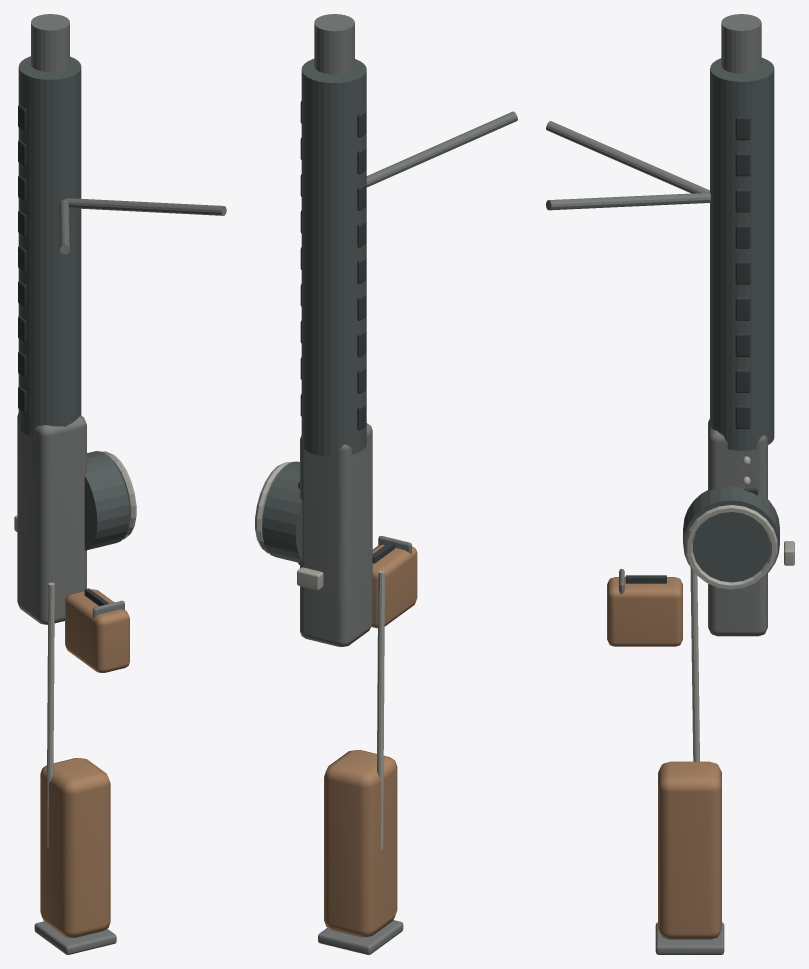
The model's file is wave24_mg34.glb.
3 renders of one model, left to right at view 1: azimuth 30°, elevation 25°; view 2: azimuth 150°, elevation 25°; view 3: azimuth 270°, elevation 25°, orthographic. The views are drawn at different scales.
Parts seen in each view (by area): view 1: MG34 forged heat-shield barrel jacket, mg34 large machined receiver, mg34 1940s shoulder walnut butt, mg34 finger-grip wood, MG34 steel drum feed cover, MG34 muzzle flash hider, MG34 wire bipod leg 1, mg34 wood-stock sling, mg34 rear stock steel buttplate, MG34 circular feed drum rim, MG34 wire bipod leg -1; view 2: MG34 forged heat-shield barrel jacket, mg34 large machined receiver, mg34 1940s shoulder walnut butt, MG34 steel drum feed cover, mg34 finger-grip wood, MG34 muzzle flash hider, MG34 wire bipod leg -1, mg34 wood-stock sling, mg34 rear stock steel buttplate, MG34 circular feed drum rim; view 3: MG34 forged heat-shield barrel jacket, mg34 1940s shoulder walnut butt, MG34 steel drum feed cover, mg34 large machined receiver, mg34 finger-grip wood, MG34 muzzle flash hider, MG34 circular feed drum rim, MG34 wire bipod leg -1, MG34 wire bipod leg 1, mg34 wood-stock sling, mg34 rear stock steel buttplate.
Part boxes in pixels (x1=…): MG34 forged heat-shield barrel jacket: x1=18, y1=56, x2=81, y2=436; mg34 large machined receiver: x1=17, y1=413, x2=86, y2=624; mg34 1940s shoulder walnut butt: x1=40, y1=758, x2=110, y2=937; mg34 finger-grip wood: x1=65, y1=589, x2=129, y2=672; MG34 steel drum feed cover: x1=84, y1=451, x2=129, y2=550; MG34 muzzle flash hider: x1=31, y1=14, x2=69, y2=72; MG34 wire bipod leg 1: x1=66, y1=198, x2=226, y2=215; mg34 wood-stock sling: x1=46, y1=582, x2=54, y2=848; mg34 rear stock steel buttplate: x1=34, y1=921, x2=116, y2=954; MG34 circular feed drum rim: x1=102, y1=451, x2=136, y2=539; MG34 wire bipod leg -1: x1=59, y1=199, x2=69, y2=254; MG34 forged heat-shield barrel jacket: x1=301, y1=59, x2=366, y2=457; mg34 large machined receiver: x1=300, y1=423, x2=372, y2=646; mg34 1940s shoulder walnut butt: x1=324, y1=750, x2=397, y2=937; MG34 steel drum feed cover: x1=262, y1=461, x2=302, y2=562; mg34 finger-grip wood: x1=371, y1=544, x2=417, y2=628; MG34 muzzle flash hider: x1=314, y1=14, x2=354, y2=74; MG34 wire bipod leg -1: x1=366, y1=111, x2=517, y2=187; mg34 wood-stock sling: x1=377, y1=570, x2=384, y2=849; mg34 rear stock steel buttplate: x1=318, y1=920, x2=403, y2=954; MG34 circular feed drum rim: x1=255, y1=462, x2=290, y2=553; MG34 forged heat-shield barrel jacket: x1=710, y1=58, x2=774, y2=450; mg34 1940s shoulder walnut butt: x1=658, y1=761, x2=721, y2=939; MG34 steel drum feed cover: x1=683, y1=487, x2=779, y2=582; mg34 large machined receiver: x1=708, y1=419, x2=767, y2=636; mg34 finger-grip wood: x1=607, y1=577, x2=682, y2=646; MG34 muzzle flash hider: x1=721, y1=14, x2=761, y2=73; MG34 circular feed drum rim: x1=685, y1=505, x2=777, y2=589; MG34 wire bipod leg -1: x1=546, y1=121, x2=709, y2=193; MG34 wire bipod leg 1: x1=546, y1=192, x2=710, y2=210; mg34 wood-stock sling: x1=690, y1=567, x2=699, y2=761; mg34 rear stock steel buttplate: x1=655, y1=922, x2=724, y2=954.
Bounding box in the file's own units: 0.4608 × 2.37 × 0.5811.
